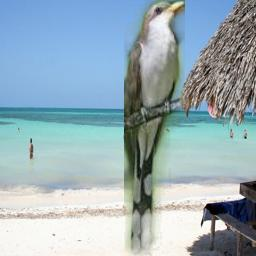Cuckoo: (124, 0, 185, 256)
